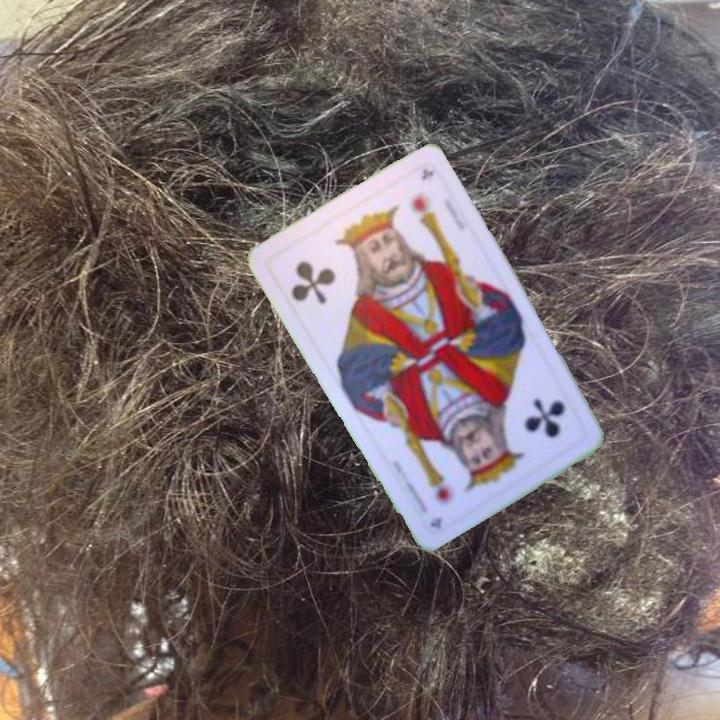c_k.png: (466, 362, 594, 485), (263, 209, 391, 332)
